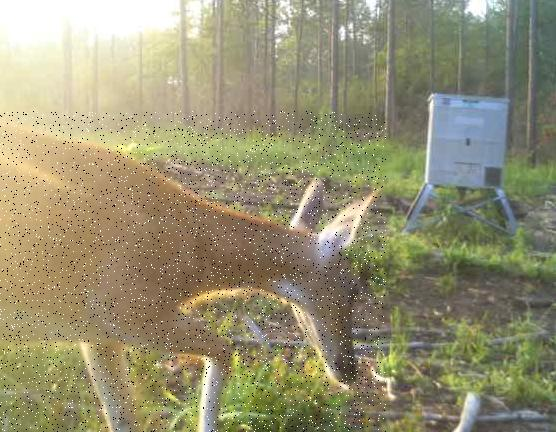Deer: (0, 111, 386, 432)
